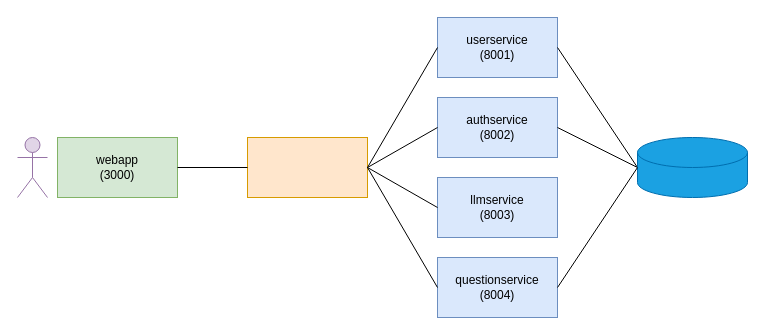
This 765x335 diagram has some shape labels left out. Here are the shapes that lost their labels. From the top down, the centre of each, then its label:
At [32,167]: "User".
At [307,167]: "gateway (8000)".
At [692,167]: "database".
